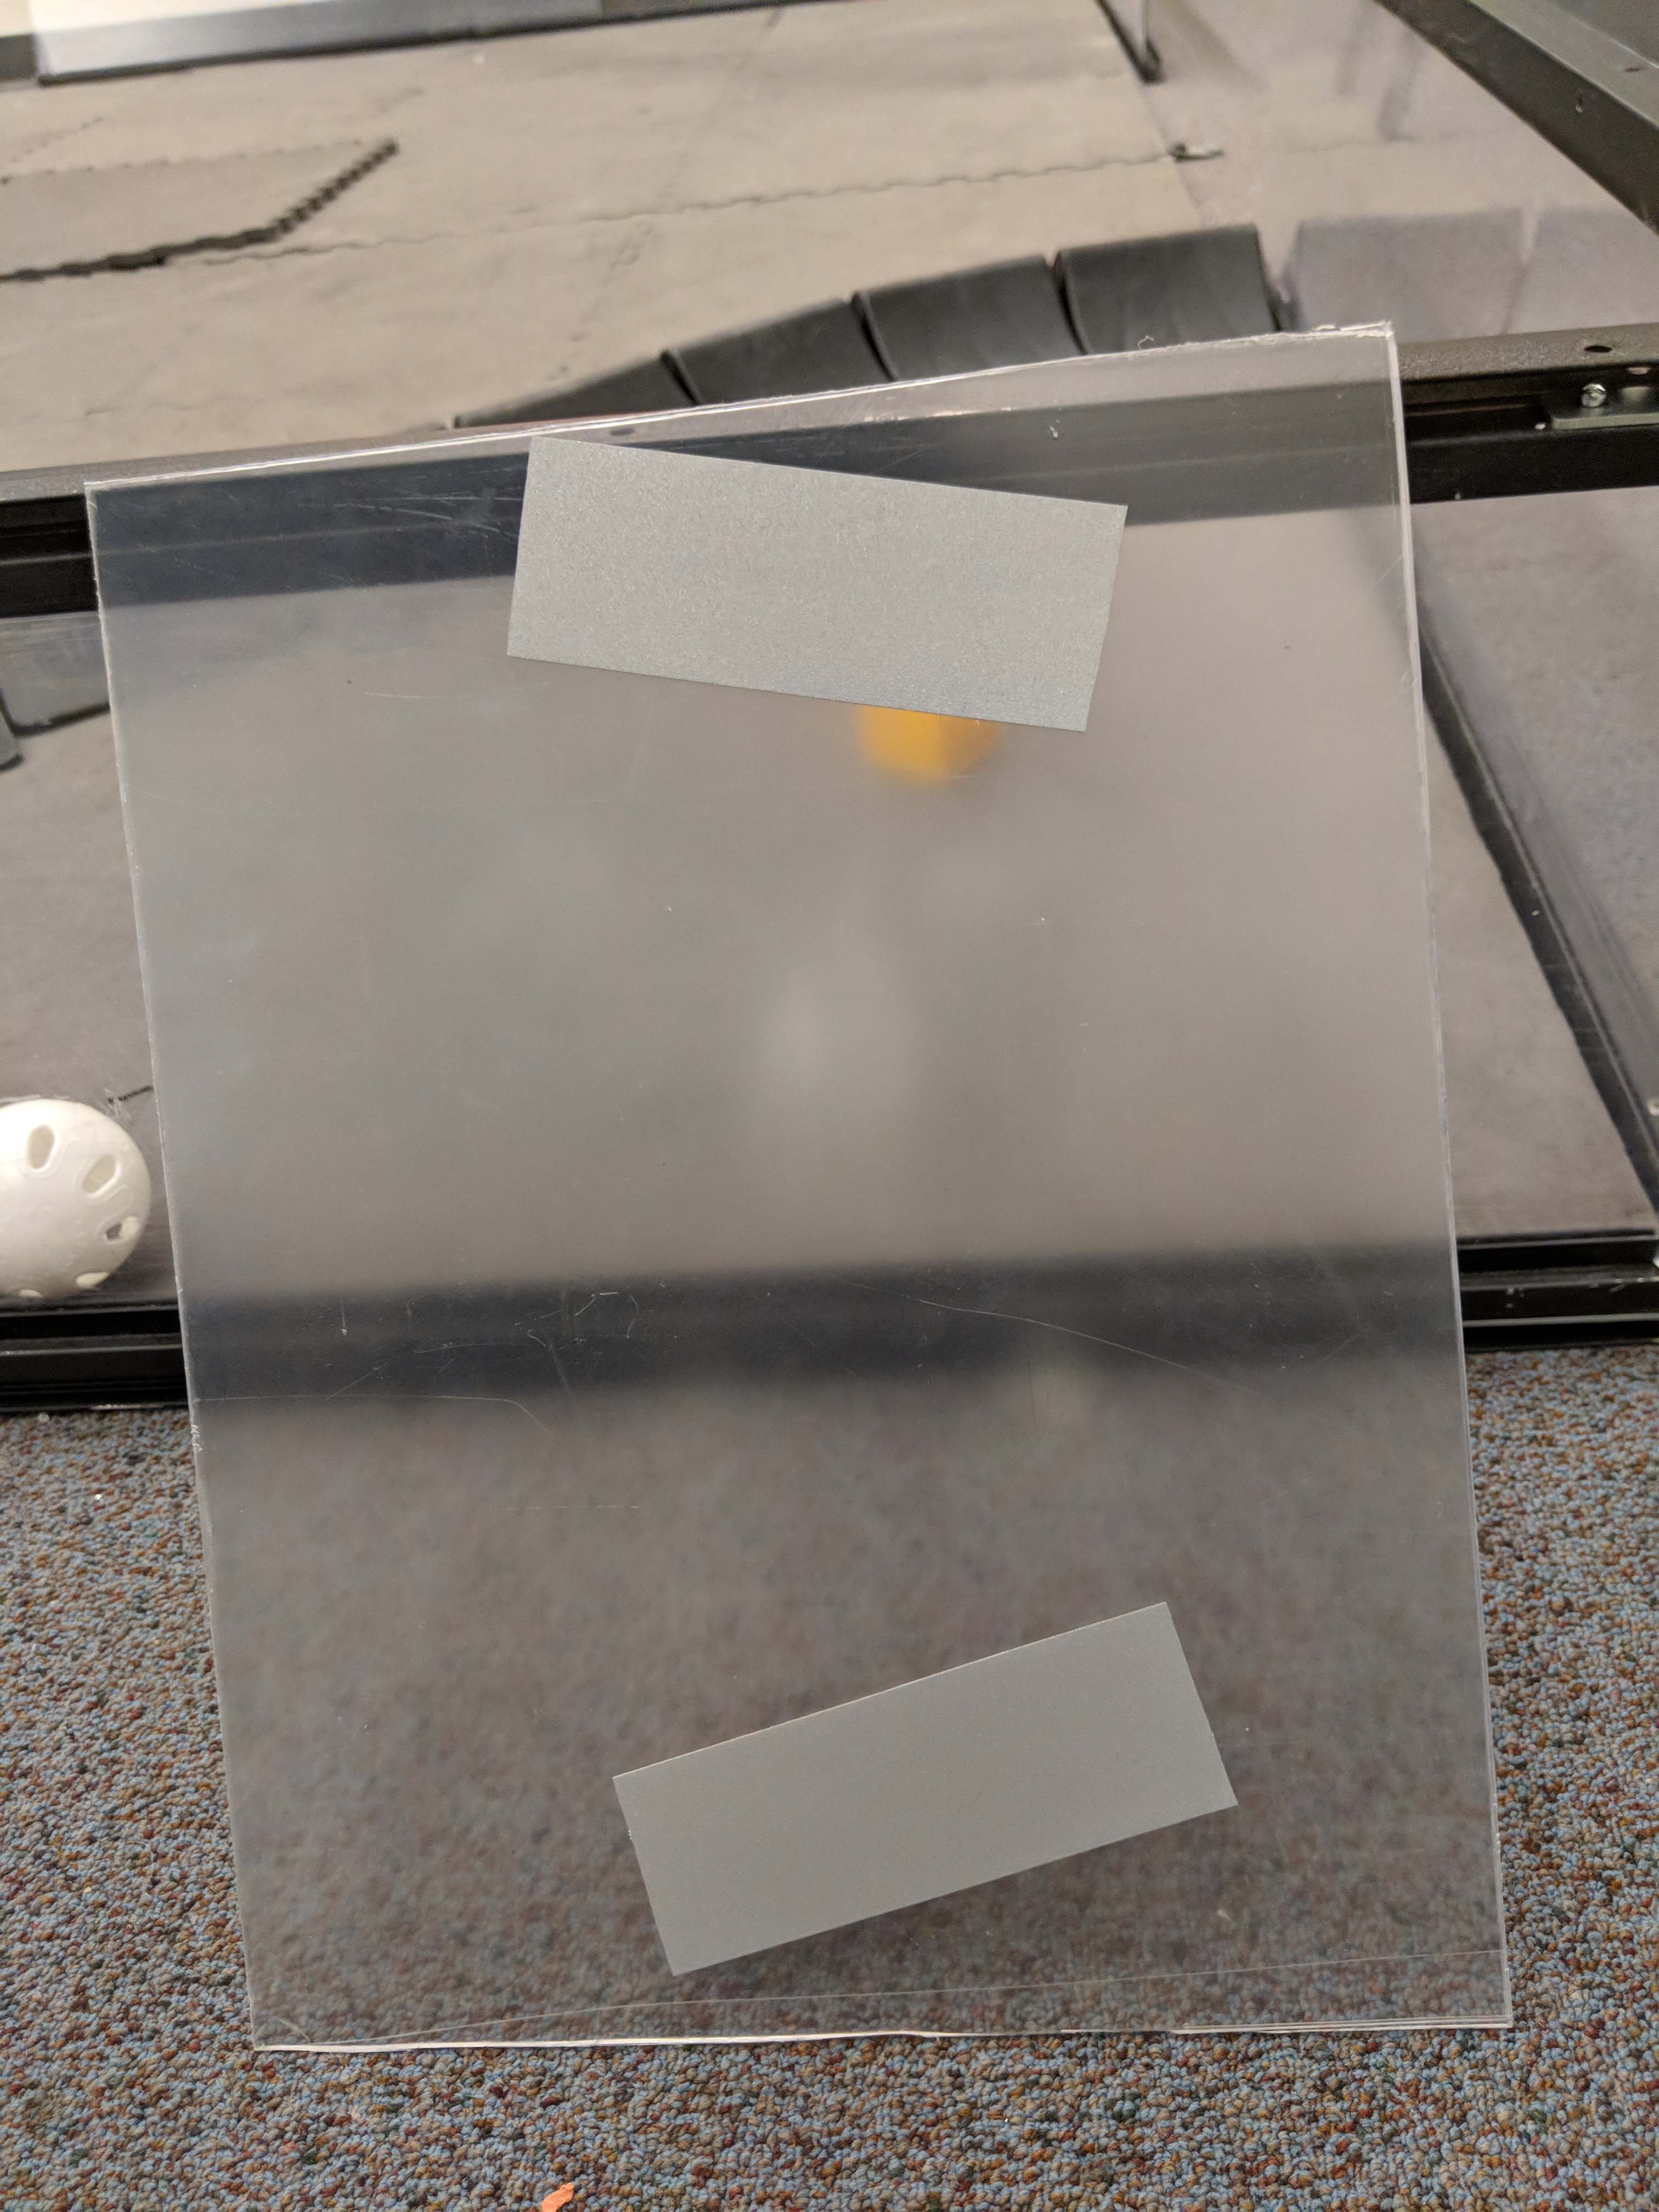vision_target: (476, 425, 1272, 2000)
